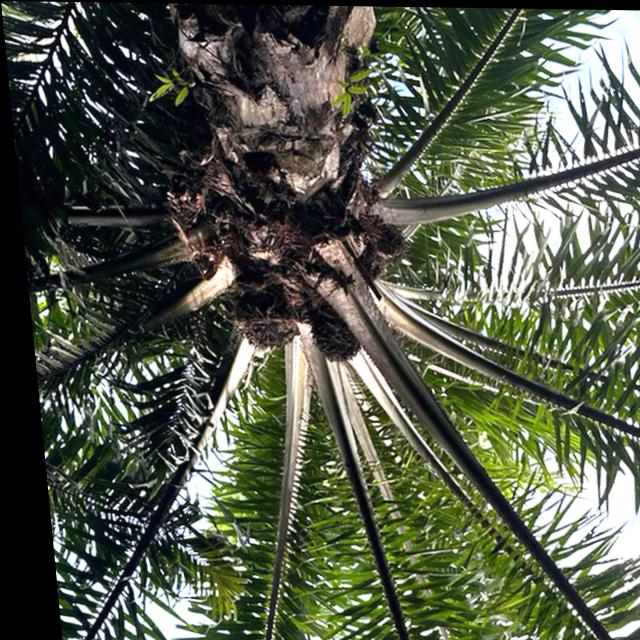almost: (224, 294, 299, 353), (301, 302, 356, 362)
